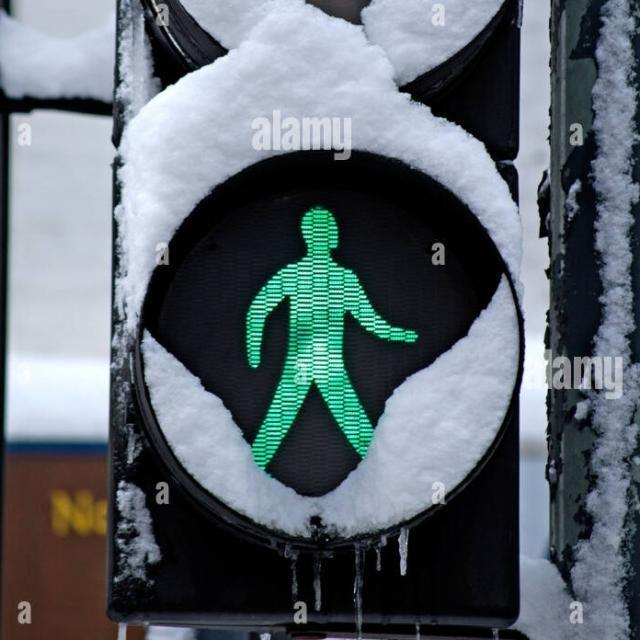geen-crossing: (240, 194, 394, 452)
